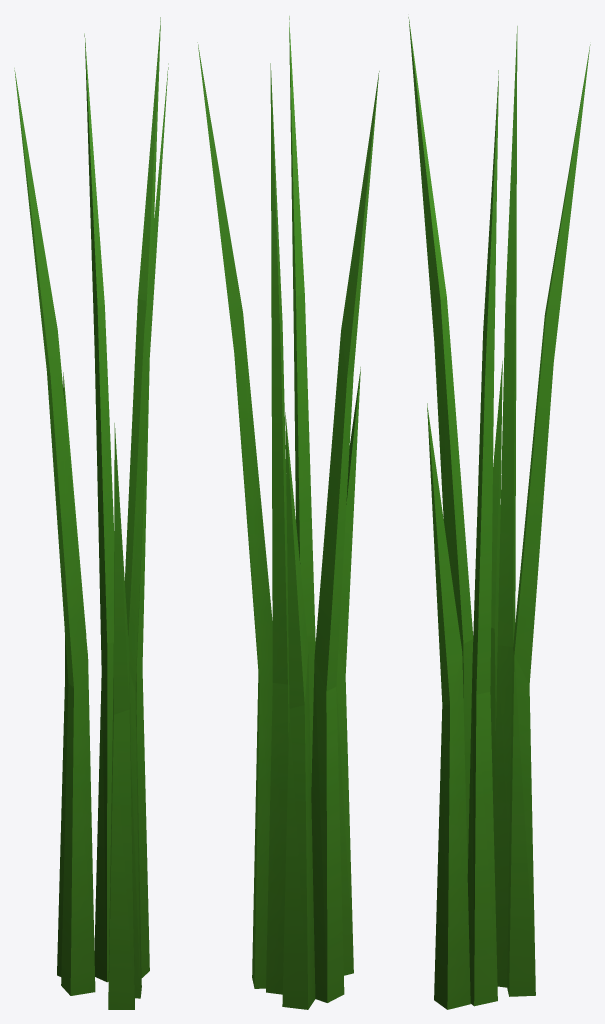
Rendered from grass_reed.glb.
3 renders of one model, left to right at view 1: azimuth 30°, elevation 25°; view 2: azimuth 150°, elevation 25°; view 3: azimuth 330°, elevation 25°, orthographic.
Visible parts, largest first — view 1: grass_reed; view 2: grass_reed; view 3: grass_reed.
Part boxes in pixels (left/top/right/bottom): grass_reed: left=14, top=17, right=168, bottom=1009; grass_reed: left=197, top=16, right=379, bottom=1009; grass_reed: left=408, top=17, right=590, bottom=1009.
Bounding box in the file's own units: 0.1465 × 0.8 × 0.098.
1 material, 1 textured.
